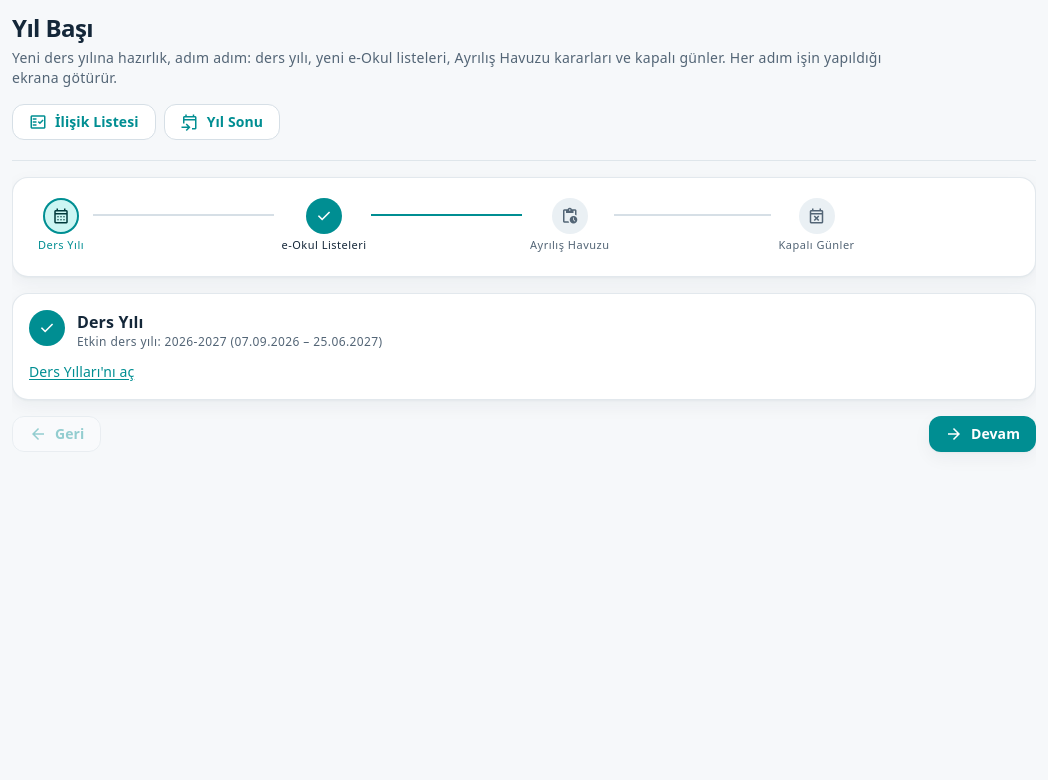
YilBasiPage › adımlar sırayla, her biri kendi ekranına bağlanır
Expected: the heading "Yıl Başı" is shown, [12, 11, 93, 44]
Expected: the text "Etkin ders yılı: 2026-2027 (07.09.2026 – 25.06.2027)" is shown, [77, 334, 383, 350]
Click the button "Devam": [982, 434] box [929, 416, 1036, 452]
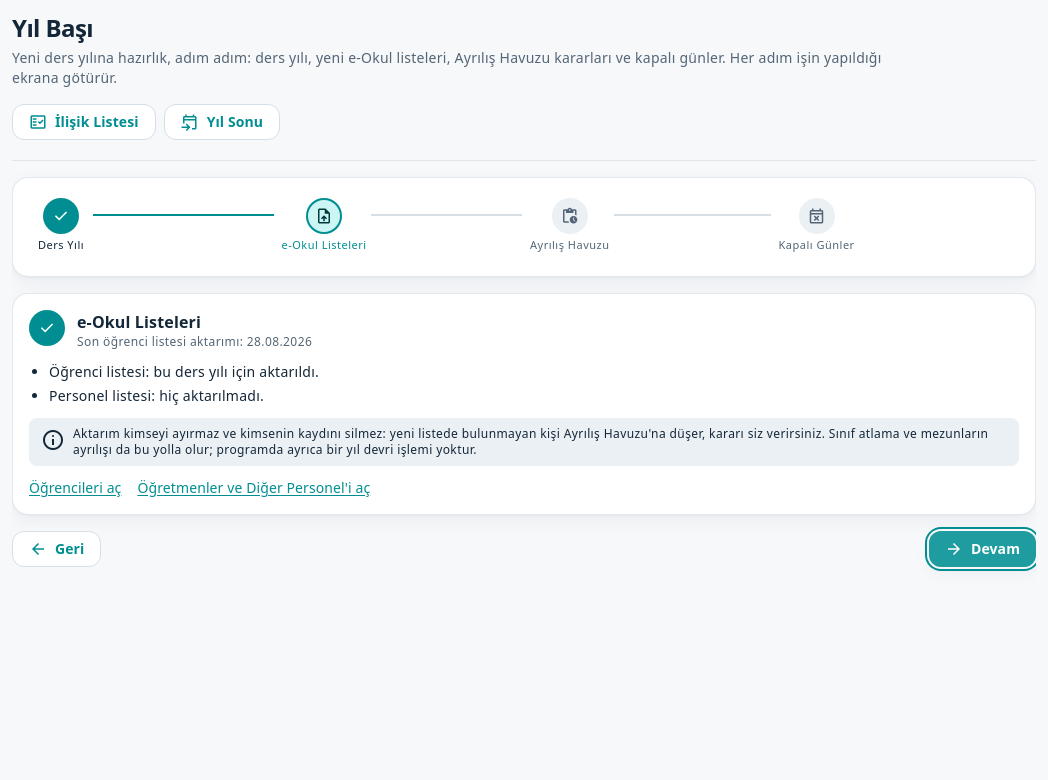
Expected: the text "Son öğrenci listesi aktarımı: 28.08.2026" is shown, [77, 334, 312, 350]
Expected: the list item "Personel listesi: hiç aktarılmadı." is shown, [49, 386, 264, 405]
Expected: the text "yıl devri işlemi yoktur" is shown, [73, 425, 988, 458]
Click the button "Devam": [982, 549] box [929, 531, 1036, 567]
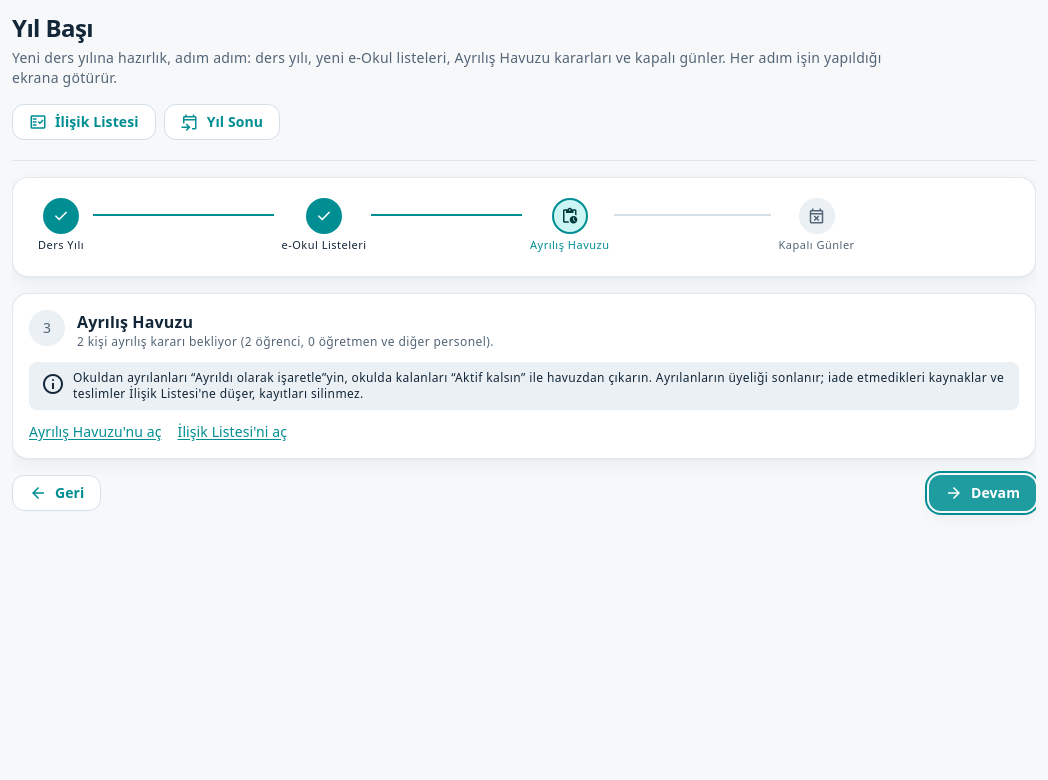
Expected: the text "2 kişi ayrılış kararı bekliyor" is shown, [77, 333, 494, 350]
Click the button "Devam": [982, 493] box [929, 475, 1036, 511]
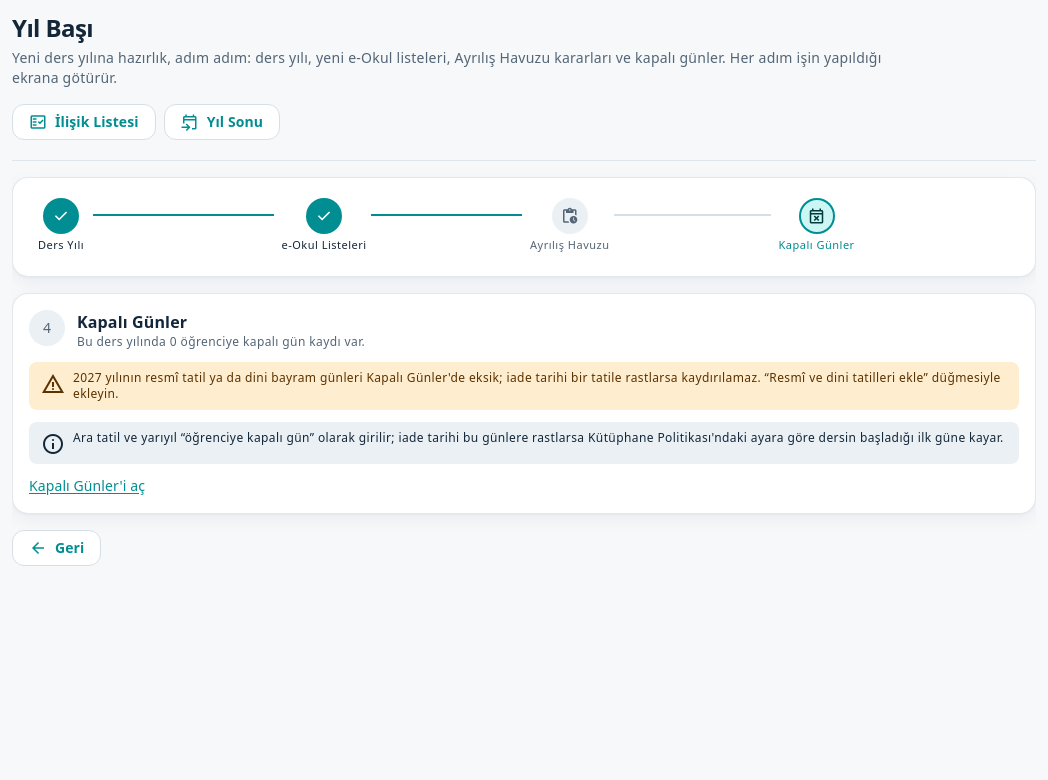
Expected: the text "2027 yılının resmî tatil ya da dini bayram günleri" is shown, [73, 370, 1007, 402]
Expected: the button "Devam" is gone
Click the button "Geri": [57, 548] box [12, 530, 101, 566]
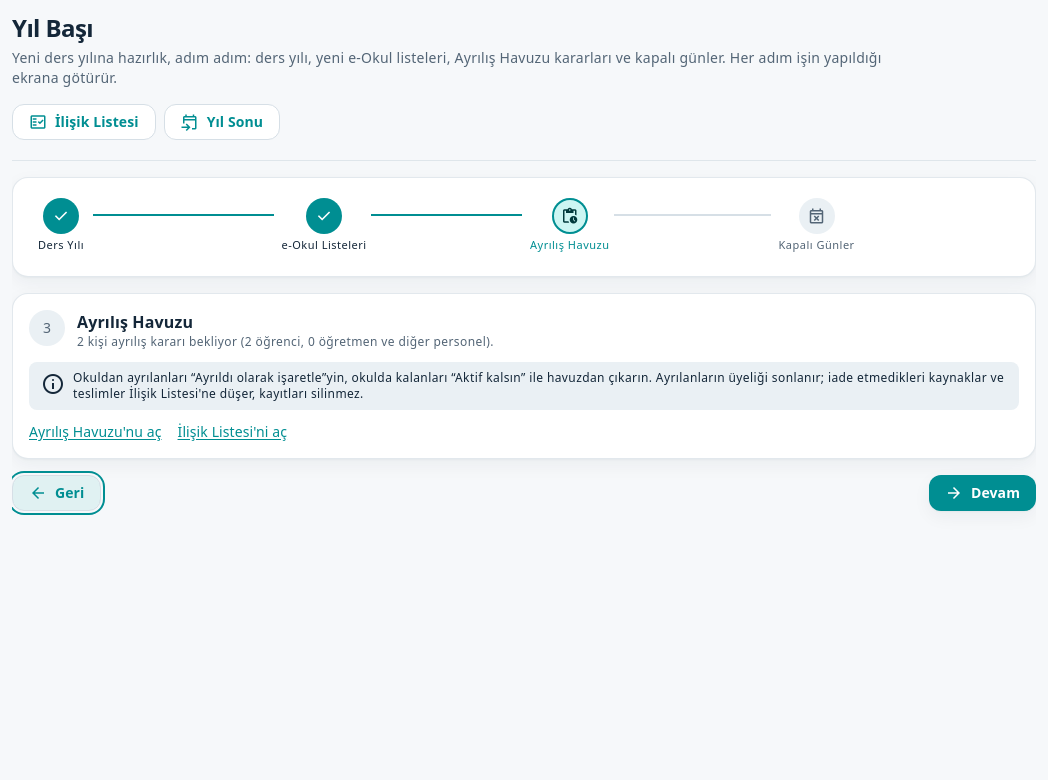
Expected: the text "2 kişi ayrılış kararı bekliyor" is shown, [77, 333, 494, 350]
